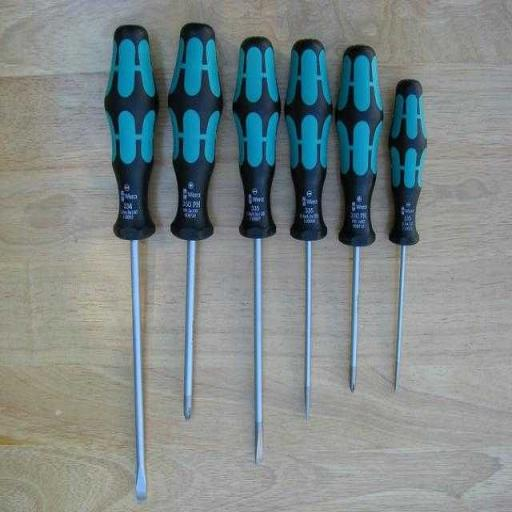screwdriver: (104, 25, 158, 501), (166, 23, 222, 423), (232, 36, 282, 464), (284, 39, 333, 425), (336, 43, 384, 394), (388, 78, 429, 392)
